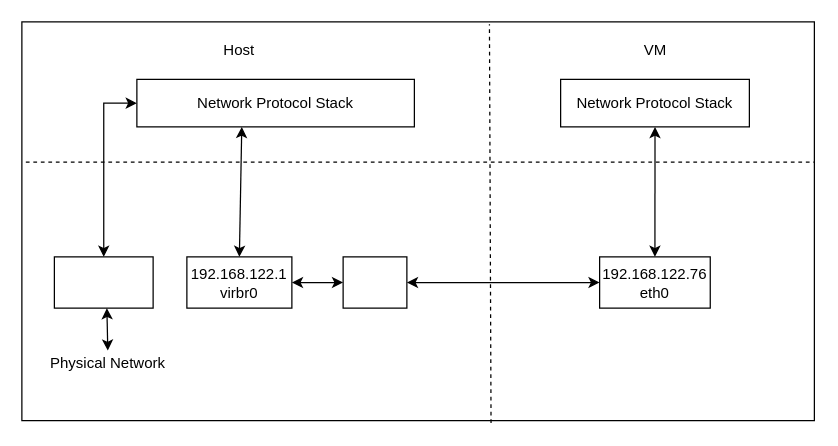
Some shapes in this 838 by 446 pixel diagram are drawn without their labels. The shapes that lost their labels are listed below. From the top down, each one's centre as x and y in pixels, then its label:
the point at 103,282: 101.11.11.12 eth0
the point at 374,282: tun/tap
